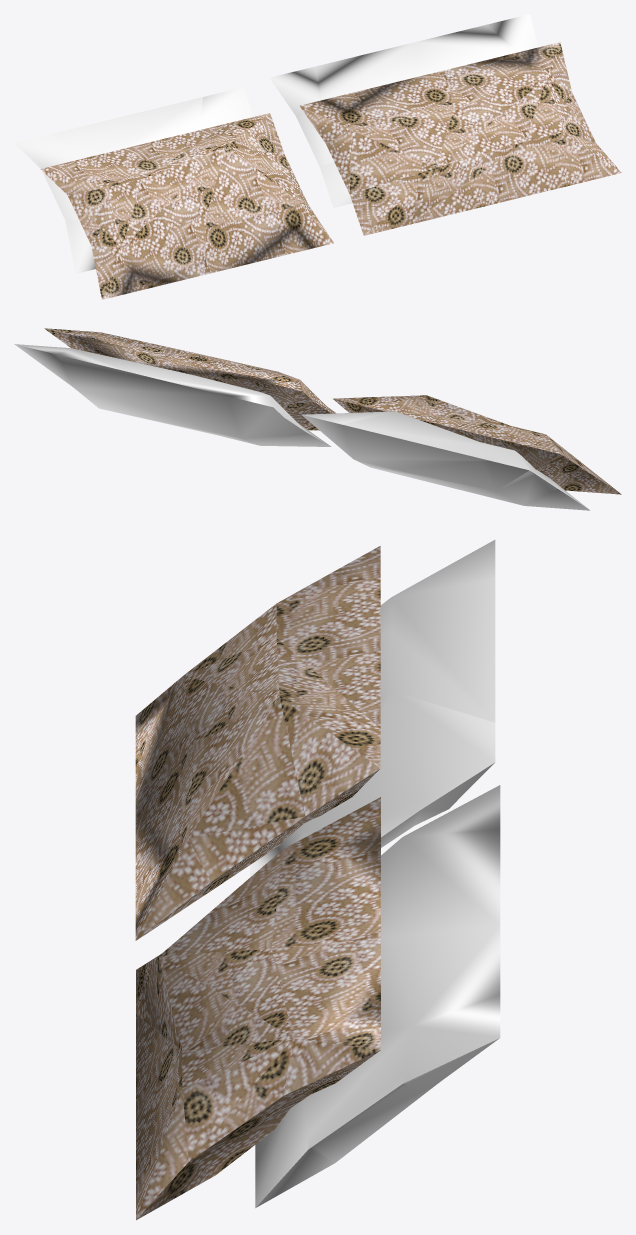
File: pillow.obj
3 renders of one model, top to bottom at view 1: azimuth 30°, elevation 25°; view 2: azimuth 150°, elevation 25°; view 3: azimuth 270°, elevation 25°, orthographic. The views are drawn at different scales.
Visible parts, largest first — view 1: Mesh4 pillow_2_2 Group1 Model, Mesh3 pillow_2_1 Group1 Model, Mesh2 Group3 Group1 Model, Mesh1 Group2 Group1 Model; view 2: Mesh2 Group3 Group1 Model, Mesh1 Group2 Group1 Model, Mesh3 pillow_2_1 Group1 Model, Mesh4 pillow_2_2 Group1 Model; view 3: Mesh4 pillow_2_2 Group1 Model, Mesh3 pillow_2_1 Group1 Model, Mesh2 Group3 Group1 Model, Mesh1 Group2 Group1 Model.
Part boxes in pixels (x1,y1,x2,y2): Mesh4 pillow_2_2 Group1 Model: (299, 42, 621, 235); Mesh3 pillow_2_1 Group1 Model: (40, 113, 333, 299); Mesh2 Group3 Group1 Model: (269, 14, 537, 207); Mesh1 Group2 Group1 Model: (14, 87, 254, 273); Mesh2 Group3 Group1 Model: (14, 344, 331, 446); Mesh1 Group2 Group1 Model: (301, 411, 590, 510); Mesh3 pillow_2_1 Group1 Model: (333, 395, 621, 494); Mesh4 pillow_2_2 Group1 Model: (44, 328, 335, 430); Mesh4 pillow_2_2 Group1 Model: (136, 797, 380, 1220); Mesh3 pillow_2_1 Group1 Model: (135, 546, 380, 940); Mesh2 Group3 Group1 Model: (255, 785, 500, 1207); Mesh1 Group2 Group1 Model: (250, 540, 495, 877).
Size of the model in its own units: 56.46 by 9.52 by 17.25.
2 materials, 1 textured.
